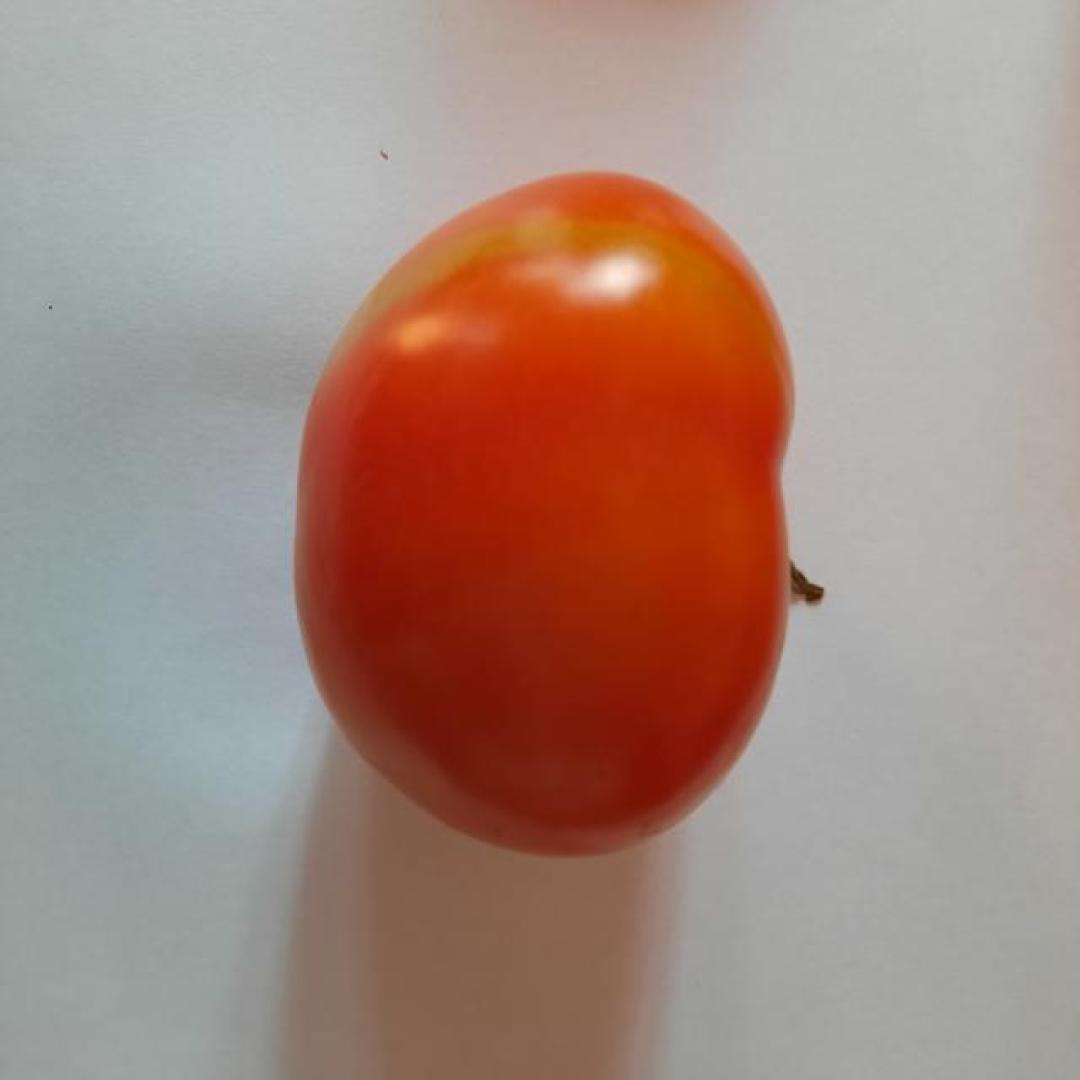matang: (292, 168, 795, 860)
